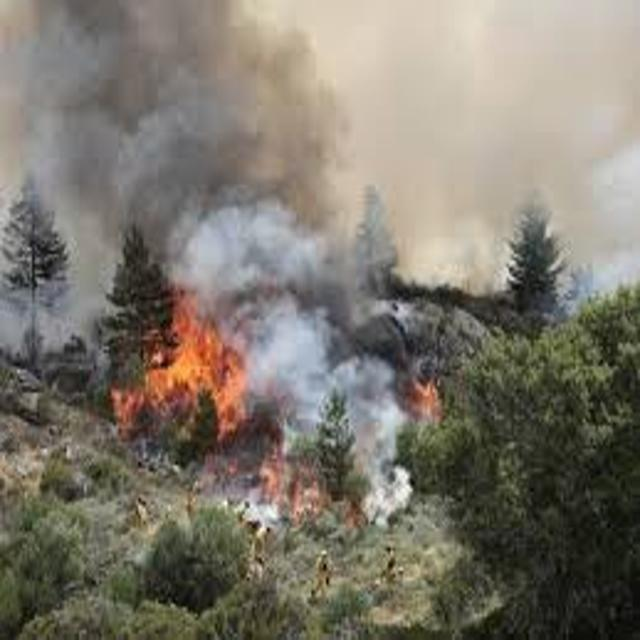Fire: (110, 281, 252, 446)
Smoke: (25, 1, 338, 281), (258, 288, 422, 514), (0, 282, 105, 358)
